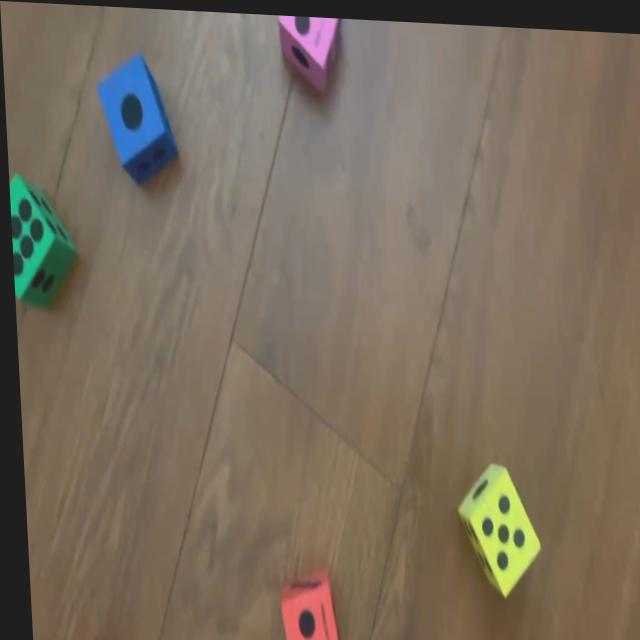blue_block: (95, 52, 175, 179)
red_block: (275, 564, 334, 640)
